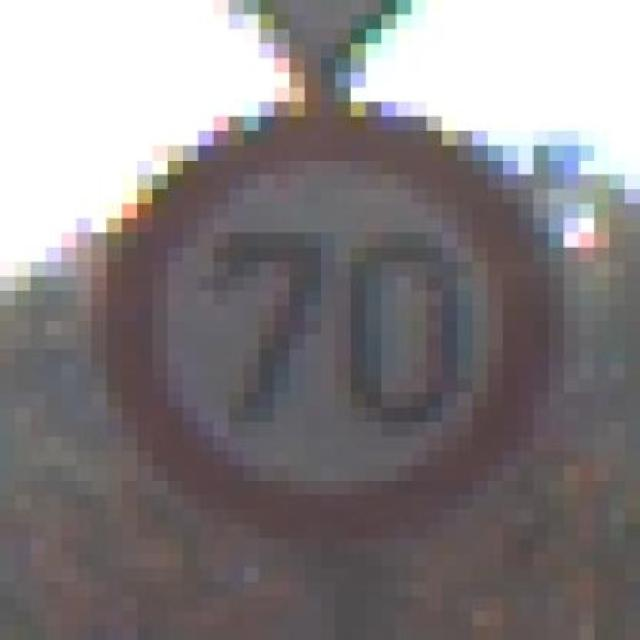forb_speed_over_70: (122, 116, 533, 527)
